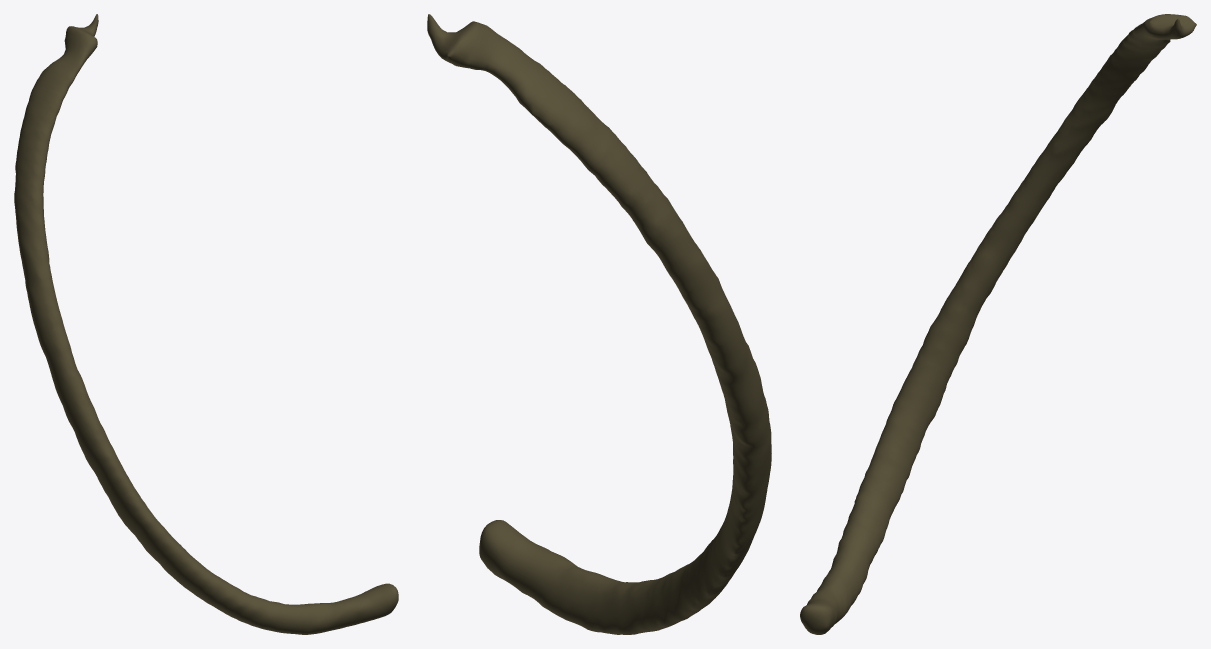
The model's file is segmentations_rib_left_5.obj.
3 views of the same model, side by side, from view 1: azimuth 30°, elevation 25°; view 2: azimuth 150°, elevation 25°; view 3: azimuth 270°, elevation 25° (orthographic). The views are drawn at different scales.
Visible parts, largest first — view 1: grp1; view 2: grp1; view 3: grp1.
Part boxes in pixels (bbox=[...]): grp1: bbox=[14, 14, 398, 634]; grp1: bbox=[427, 14, 771, 634]; grp1: bbox=[800, 14, 1196, 634].
Size of the model in its own units: 61.26 by 116 by 74.22.
